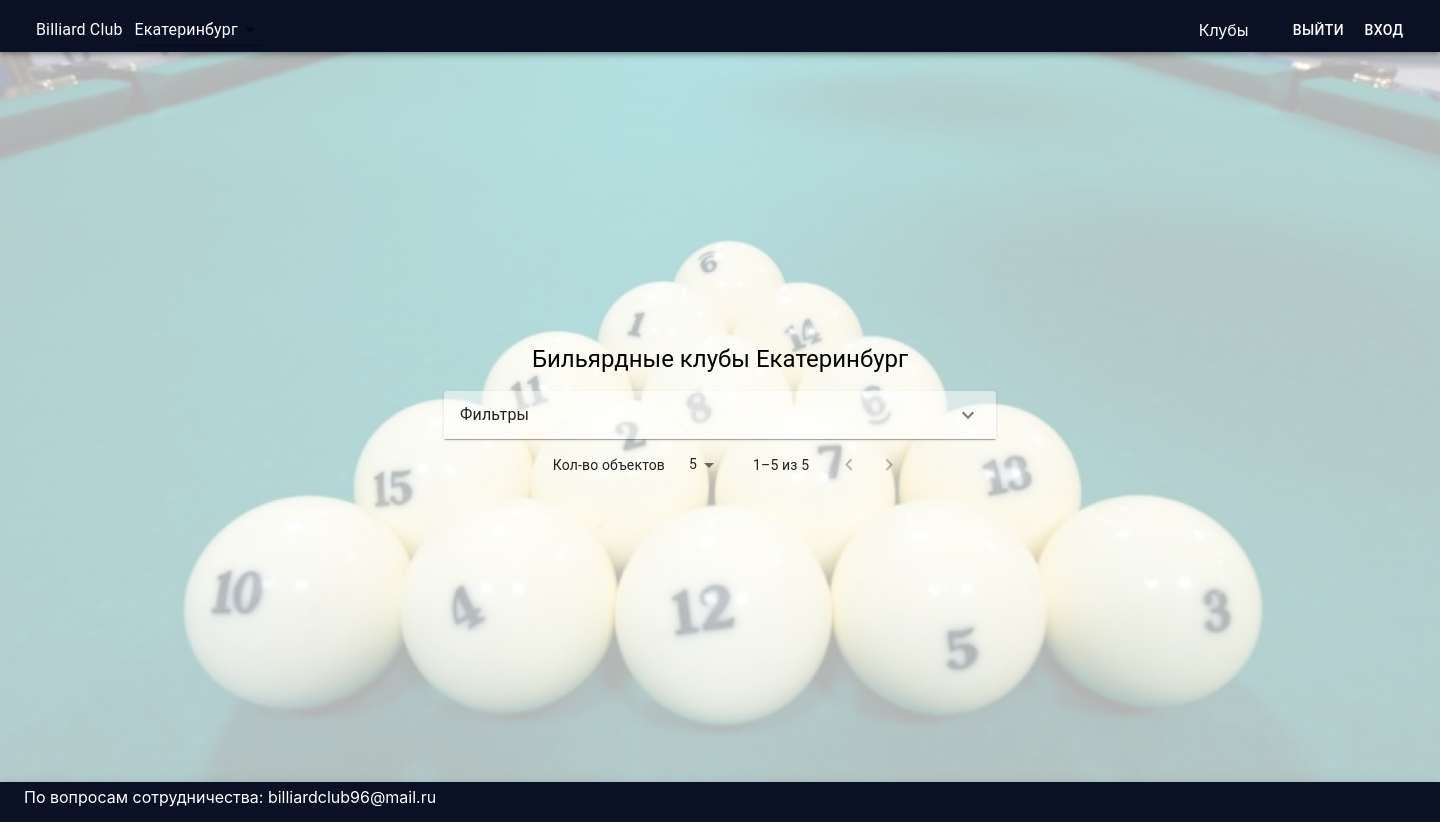
Test: Club page tests › renders filters from state
Click the button "Фильтры". click: (495, 414)
box: [460,403,980,427]
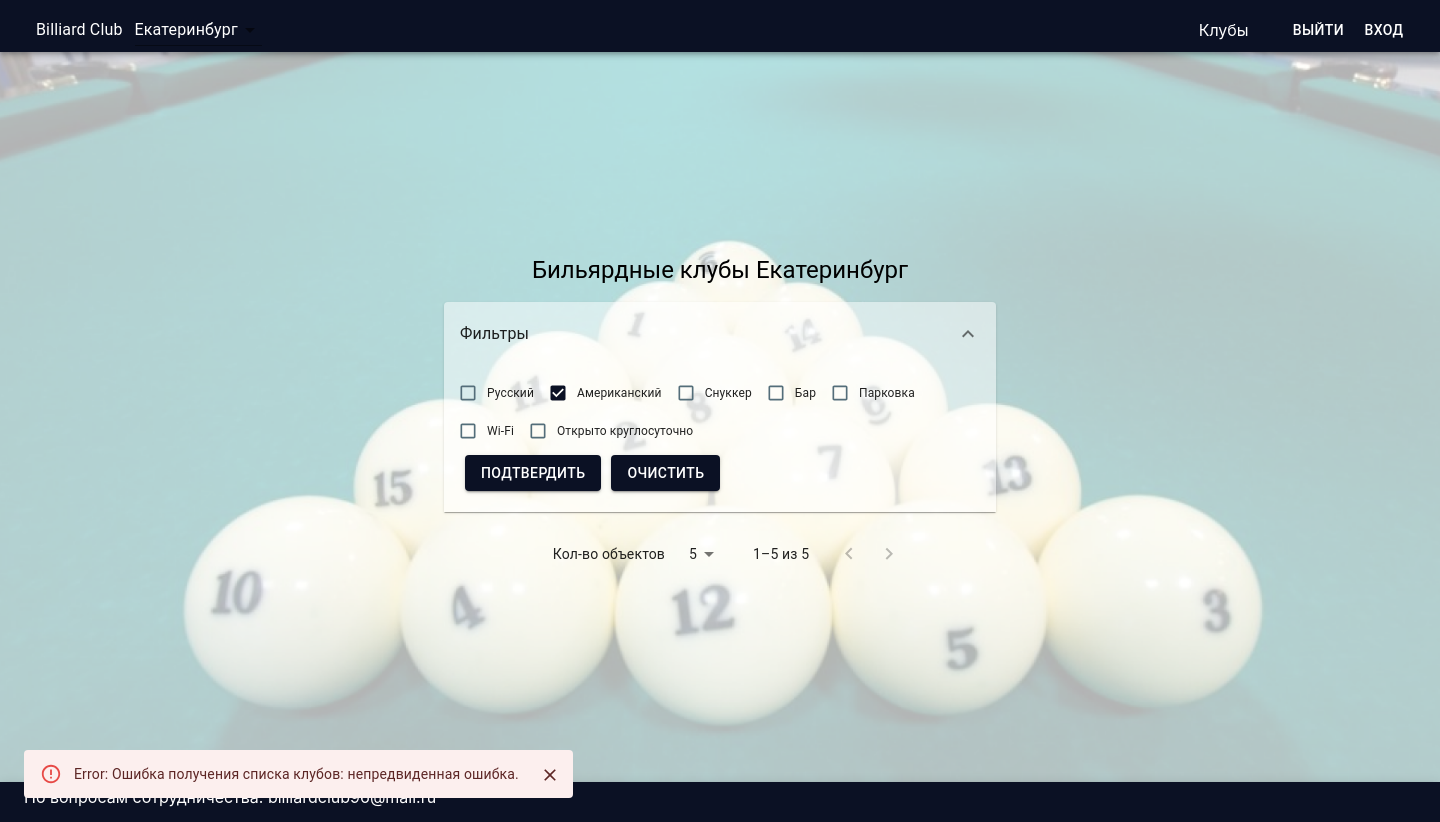
Expected: the checkbox labelled "Американский" is checked, [548,383,662,403]
